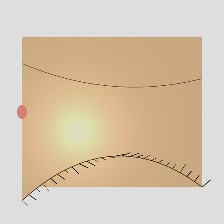pterygium_lesion: (24, 99, 57, 125)
